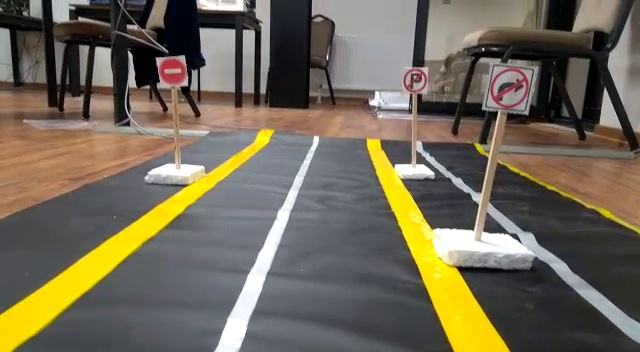girisi_olmayan_yol: (156, 56, 188, 84)
park_yapilmaz: (402, 67, 427, 93)
saga_donulmez: (488, 65, 530, 115)
